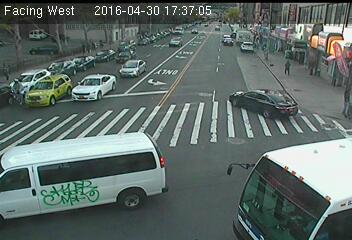neg: (5, 77, 28, 107)
pos: (337, 83, 351, 118), (282, 57, 295, 74)
